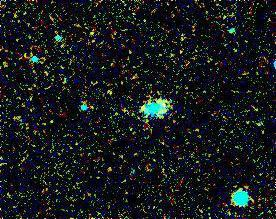star: (95, 83, 125, 113)
